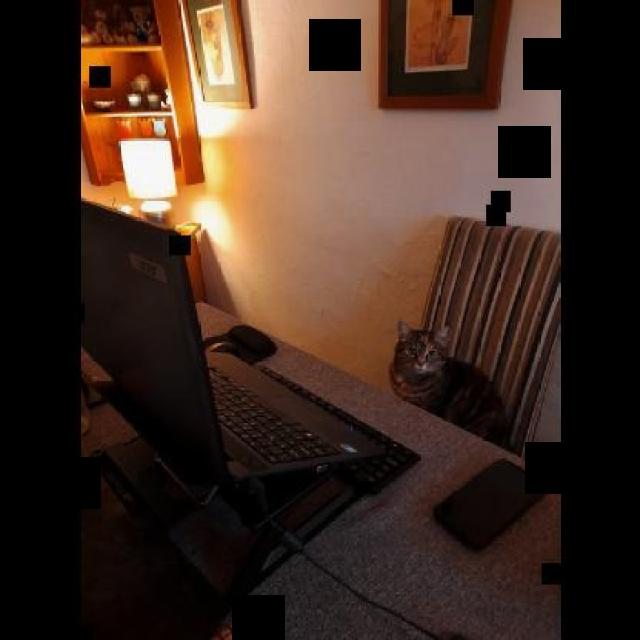unauthorized: (388, 317, 512, 449)
